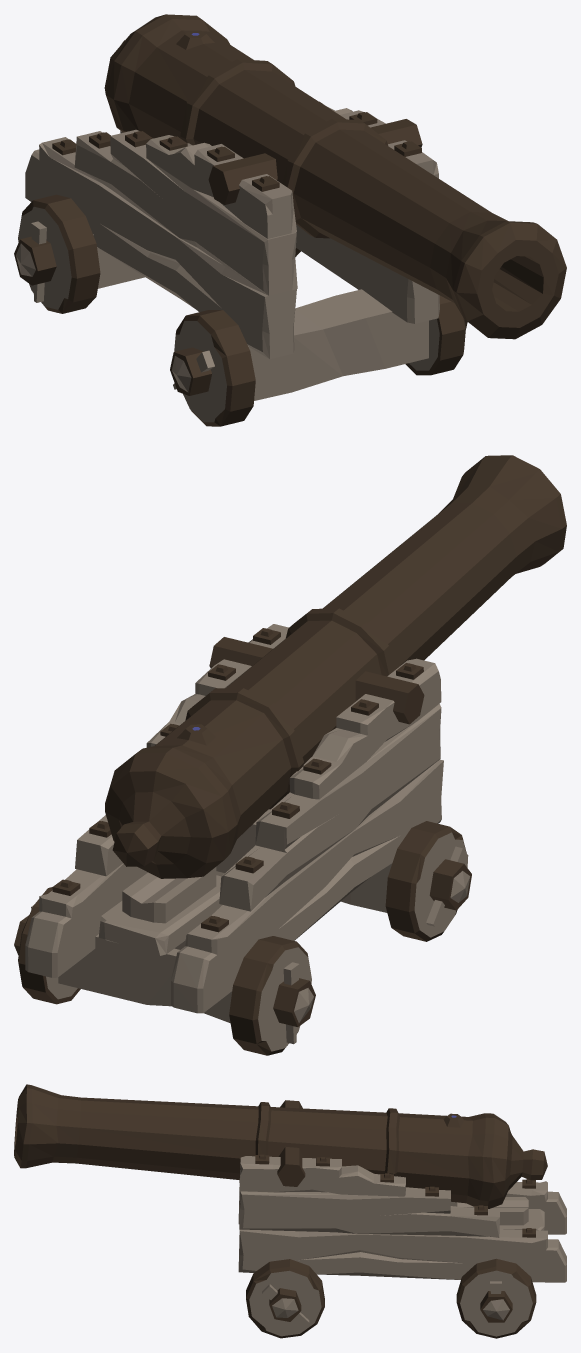
The model's file is SM_Prop_Cannon_01_Separate.glb.
3 views of the same model, one above another, from view 1: azimuth 30°, elevation 25°; view 2: azimuth 150°, elevation 25°; view 3: azimuth 270°, elevation 25° (orthographic). The views are drawn at different scales.
Visible parts, largest first — view 1: SM_Prop_Cannon_01_Separate_01, SM_Prop_Cannon_01_Separate_00, SM_Prop_Cannon_01_Separate_03, SM_Prop_Cannon_01_Separate_02; view 2: SM_Prop_Cannon_01_Separate_01, SM_Prop_Cannon_01_Separate_00, SM_Prop_Cannon_01_Separate_02, SM_Prop_Cannon_01_Separate_03; view 3: SM_Prop_Cannon_01_Separate_01, SM_Prop_Cannon_01_Separate_00, SM_Prop_Cannon_01_Separate_02, SM_Prop_Cannon_01_Separate_03.
Boxes of the visible parts, x1,y1,x2,y2 form: SM_Prop_Cannon_01_Separate_01: [104, 14, 566, 339]; SM_Prop_Cannon_01_Separate_00: [25, 101, 439, 400]; SM_Prop_Cannon_01_Separate_03: [170, 295, 467, 426]; SM_Prop_Cannon_01_Separate_02: [14, 194, 300, 313]; SM_Prop_Cannon_01_Separate_01: [105, 455, 566, 878]; SM_Prop_Cannon_01_Separate_00: [25, 624, 443, 1023]; SM_Prop_Cannon_01_Separate_02: [14, 887, 315, 1055]; SM_Prop_Cannon_01_Separate_03: [216, 821, 471, 941]; SM_Prop_Cannon_01_Separate_01: [14, 1084, 547, 1208]; SM_Prop_Cannon_01_Separate_00: [238, 1154, 566, 1282]; SM_Prop_Cannon_01_Separate_02: [456, 1258, 536, 1338]; SM_Prop_Cannon_01_Separate_03: [246, 1259, 324, 1338].
Bounding box in the file's own units: 0.9906 × 1.03 × 2.44.
Materials: 1 (1 with a texture image).
